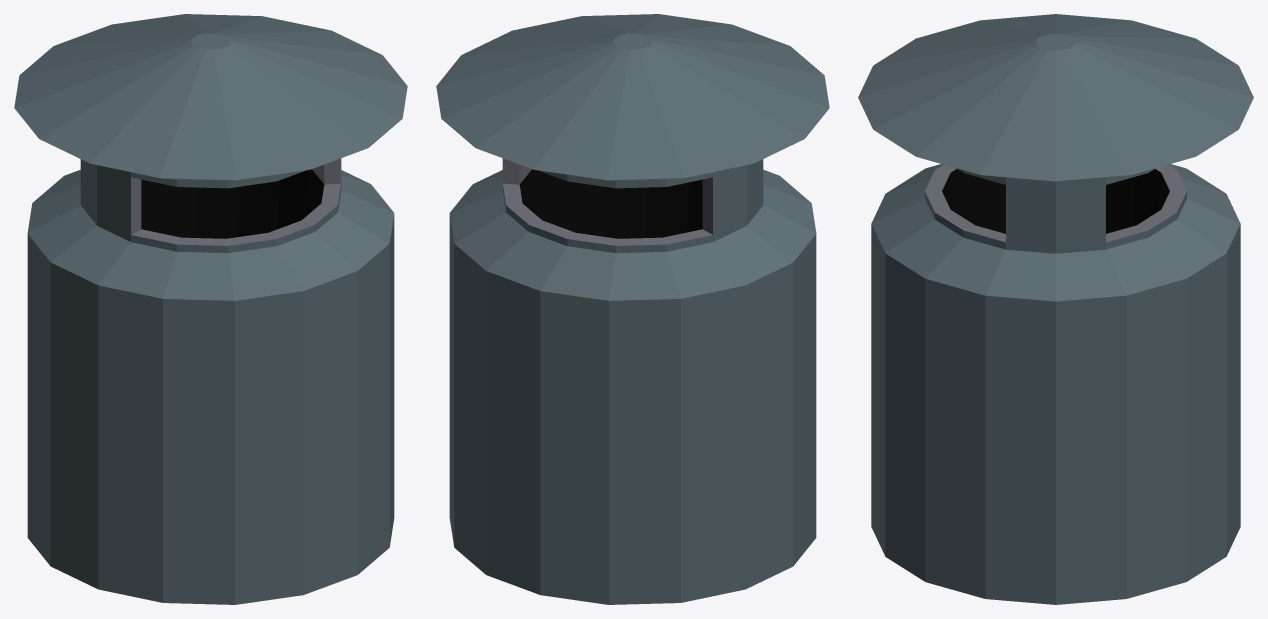
Rendered from RoofAcc_Vents.fbx.
3 views of the same model, side by side, from view 1: azimuth 30°, elevation 25°; view 2: azimuth 150°, elevation 25°; view 3: azimuth 270°, elevation 25° (orthographic).
Visible parts, largest first — view 1: RoofAcc_Vents; view 2: RoofAcc_Vents; view 3: RoofAcc_Vents.
Part boxes in pixels (bbox=[...]): RoofAcc_Vents: bbox=[14, 14, 407, 604]; RoofAcc_Vents: bbox=[436, 14, 829, 604]; RoofAcc_Vents: bbox=[858, 14, 1253, 604].
Bounding box in the file's own units: 34.13 × 46.12 × 34.13.
